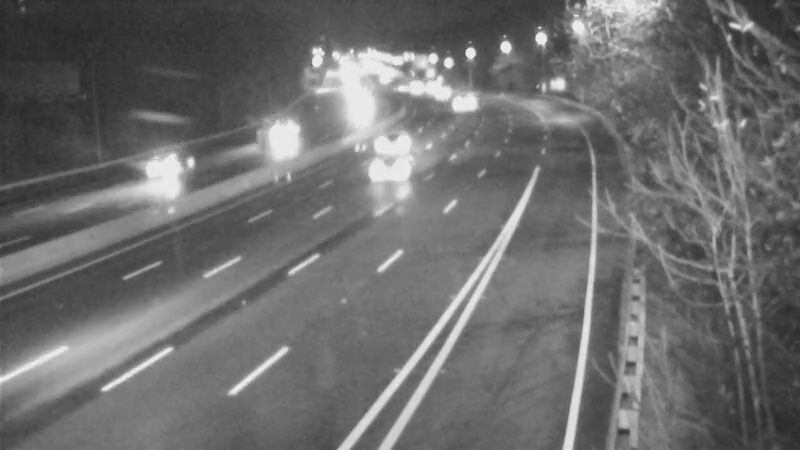vehicle: (355, 133, 435, 213), (124, 129, 204, 209), (392, 61, 442, 111), (420, 71, 470, 121), (442, 79, 492, 129), (361, 120, 411, 170), (255, 124, 305, 174), (338, 83, 388, 133)
